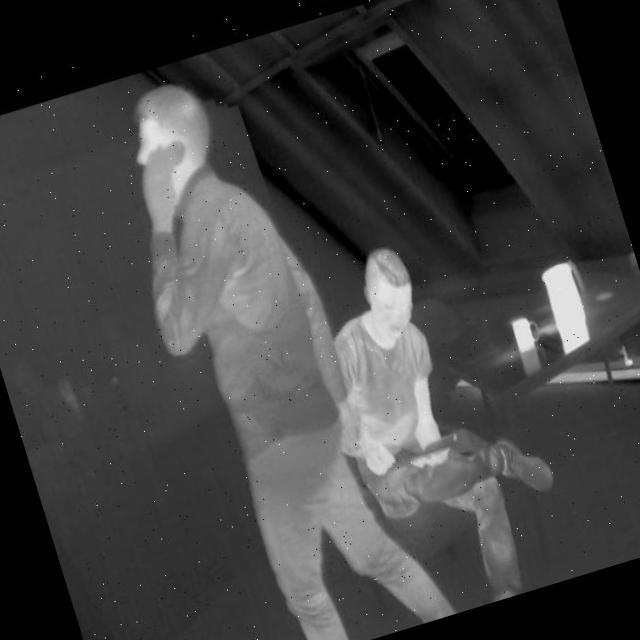person: (83, 49, 432, 640), (276, 204, 586, 634)
